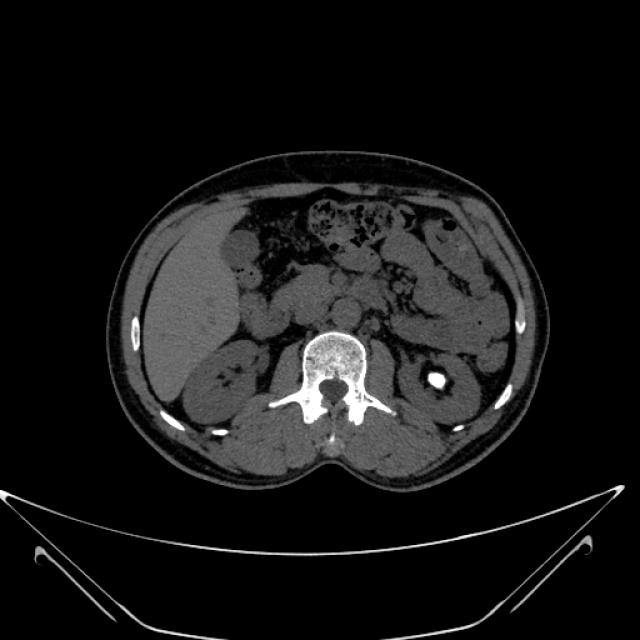kidneystone: (428, 372, 445, 389)
